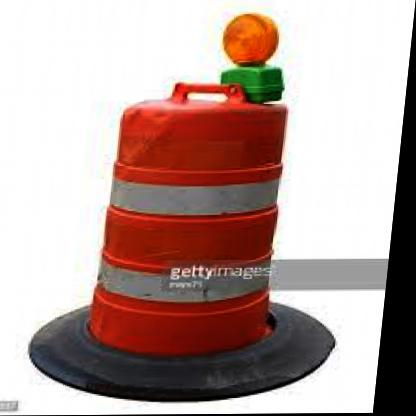obstacle: (75, 80, 321, 367)
